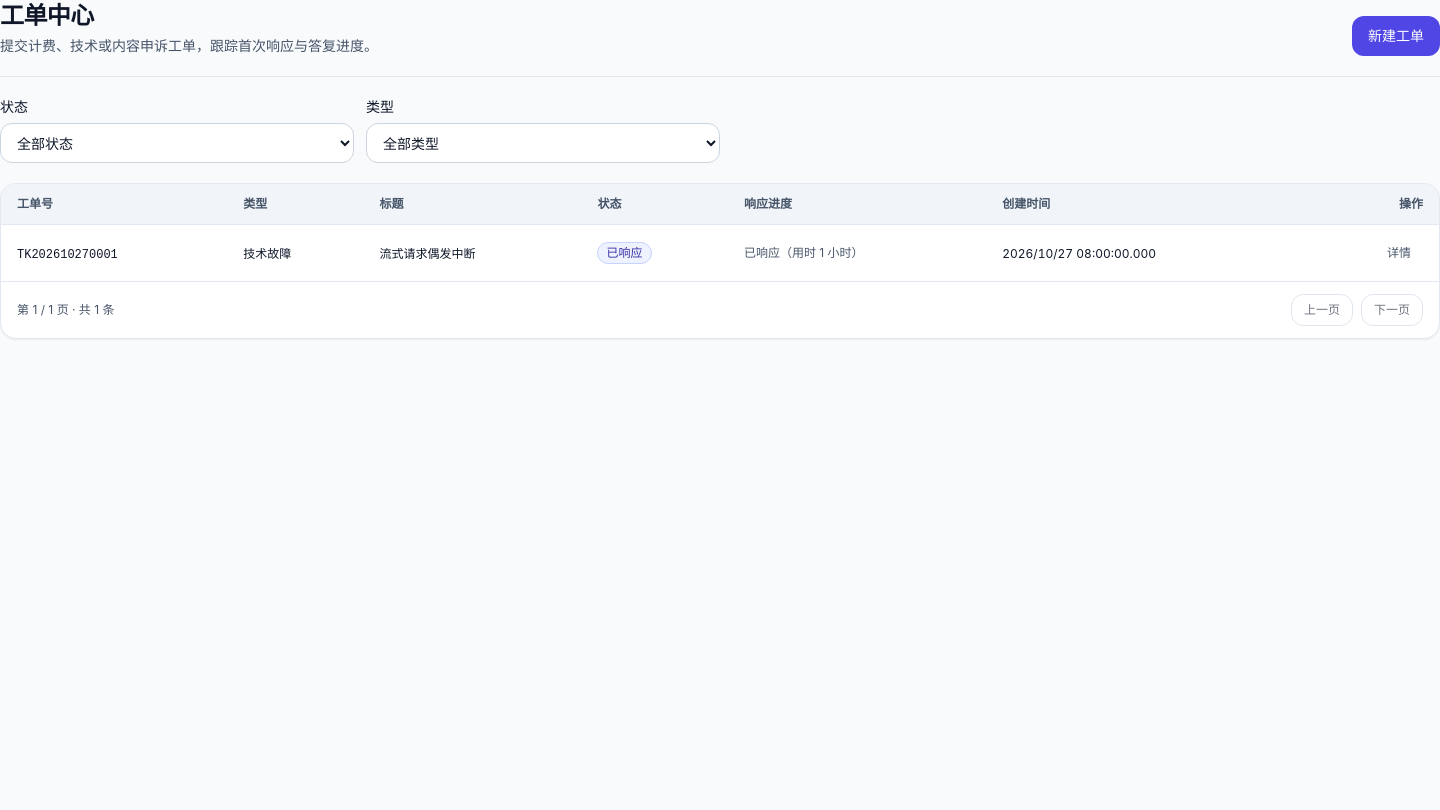
Test case: TicketsPage › F19-4: does not invent an outstanding-ticket notice the API never returns
Check: the table named "工单列表" is shown, box [1,184,1439,281]
Click the button "详情" at (1399, 253), box [1375,237,1423,269]
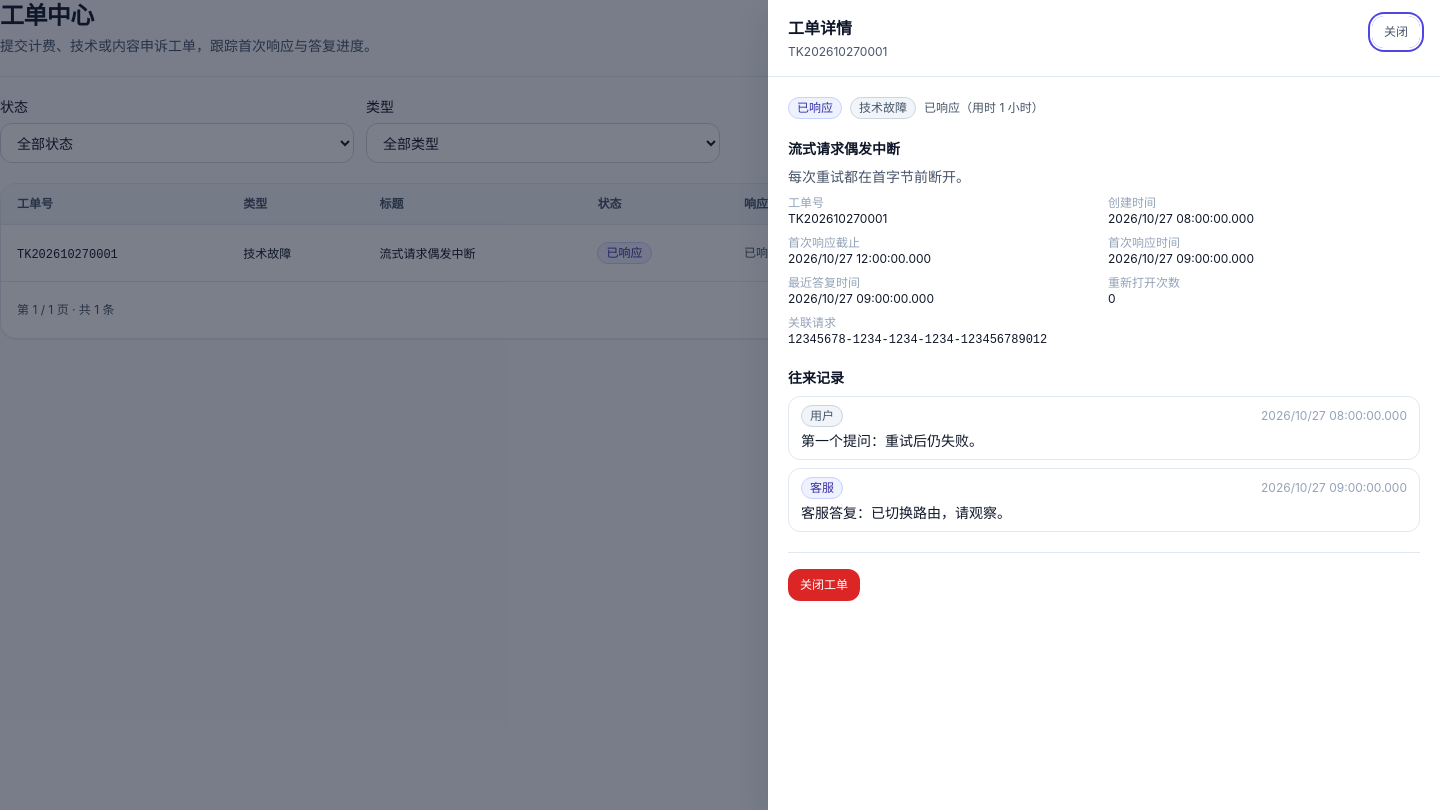
Check: the text "第一个提问：重试后仍失败。" is shown, box [801,432,983,449]
